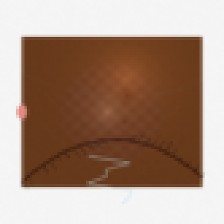foreign_body_visible: (72, 122, 104, 148)
